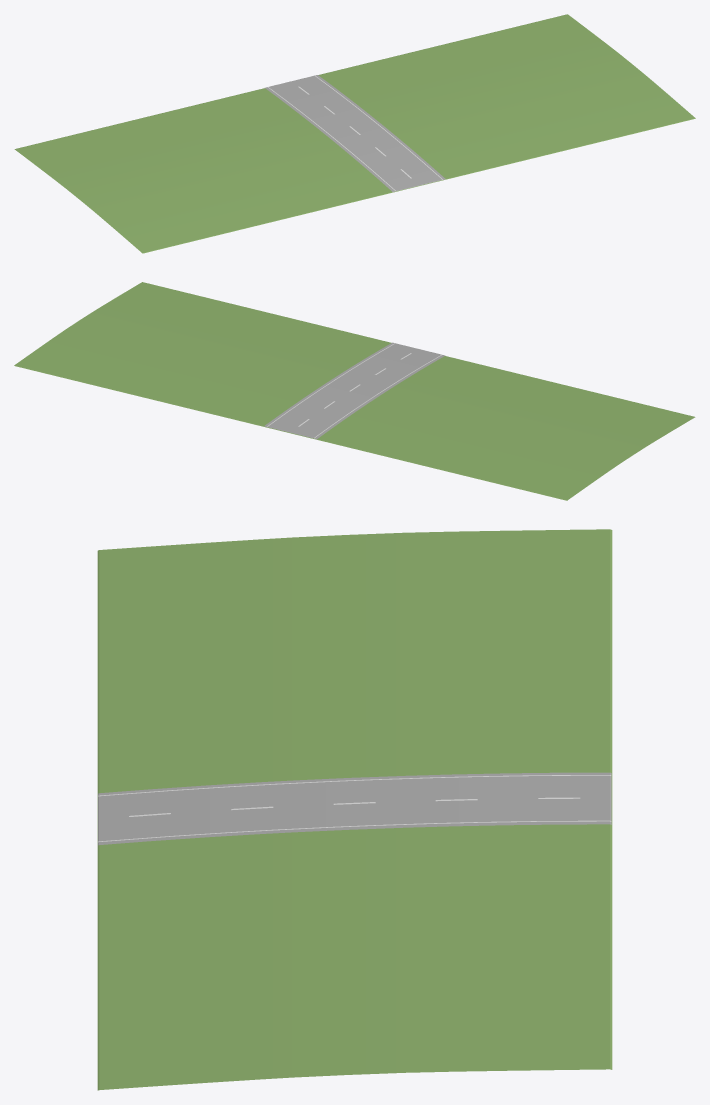
The model's file is road_down.fbx.
3 views of the same model, one above another, from view 1: azimuth 30°, elevation 25°; view 2: azimuth 150°, elevation 25°; view 3: azimuth 270°, elevation 25° (orthographic). The views are drawn at different scales.
Parts seen in each view (by area): view 1: grass_2, experimental_down, stuff13; view 2: grass_2, experimental_down, stuff13; view 3: grass_2, experimental_down, stuff13.
Part boxes in pixels (x1=…): grass_2: x1=14, y1=14, x2=695, y2=253; experimental_down: x1=265, y1=75, x2=445, y2=191; stuff13: x1=268, y1=75, x2=442, y2=190; grass_2: x1=14, y1=282, x2=695, y2=500; experimental_down: x1=264, y1=342, x2=445, y2=439; stuff13: x1=267, y1=343, x2=442, y2=438; grass_2: x1=97, y1=529, x2=612, y2=1090; experimental_down: x1=98, y1=772, x2=611, y2=845; stuff13: x1=98, y1=775, x2=611, y2=842.
Size of the model in its own units: 25 by 0.4849 by 10.06.
